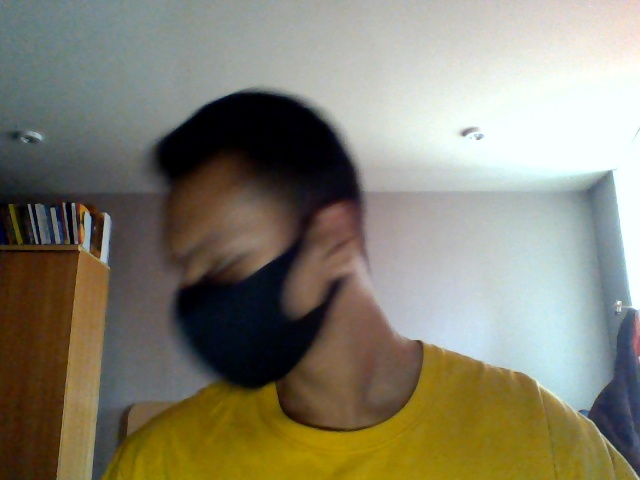mask: (173, 282, 318, 393)
